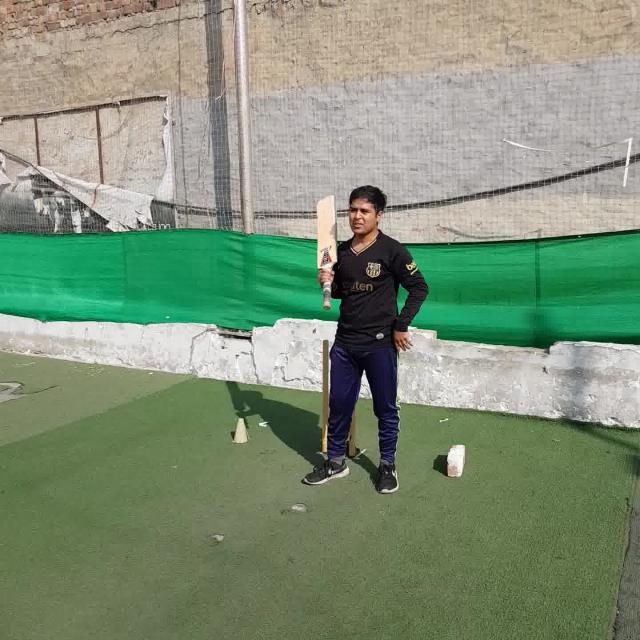bat: (316, 196, 338, 310)
